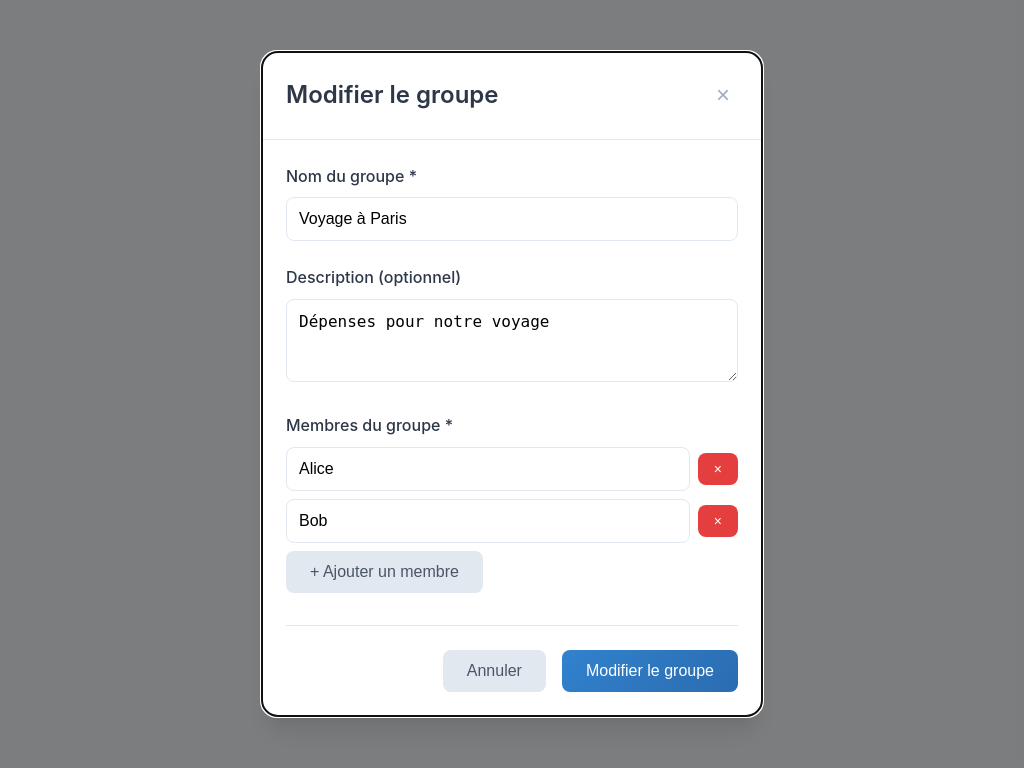
Test: EditGroupModal › permet de supprimer un membre
The width and height of the screenshot is (1024, 768).
// Prendre le premier bouton de suppression de membre (pas le bouton de fermeture du modal)
Click the 2nd button "×" at (718, 469), box [698,453,738,485]
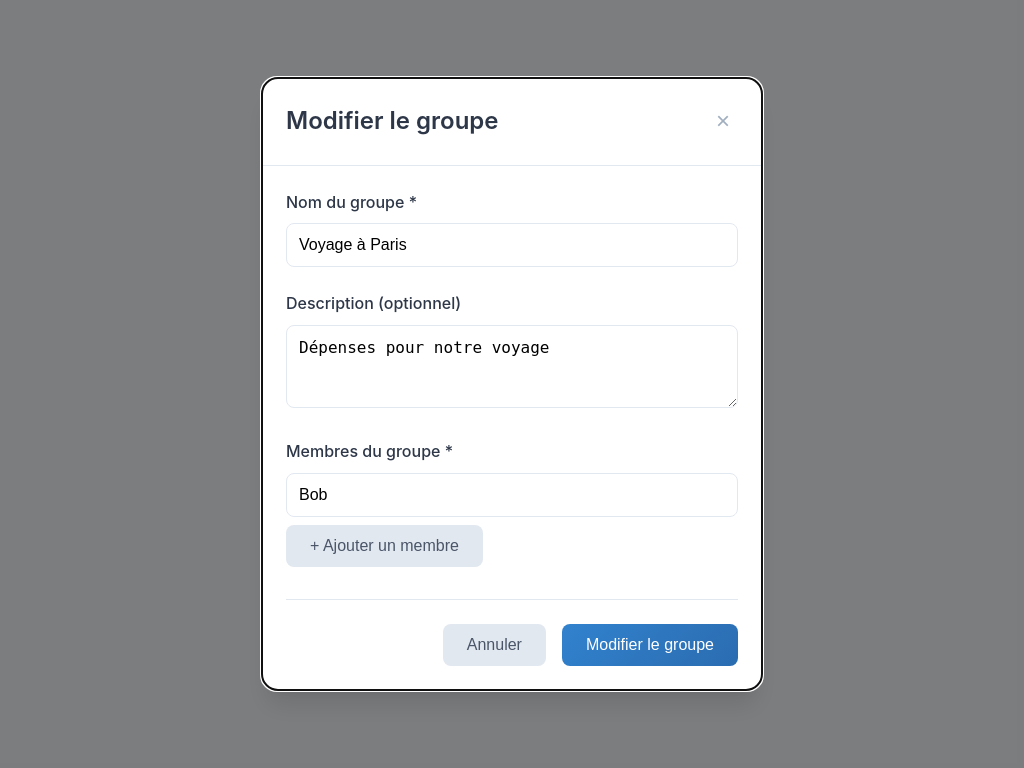
Now the number of fields with placeholder "Nom du membre" is 1, box [286,473,738,517]
